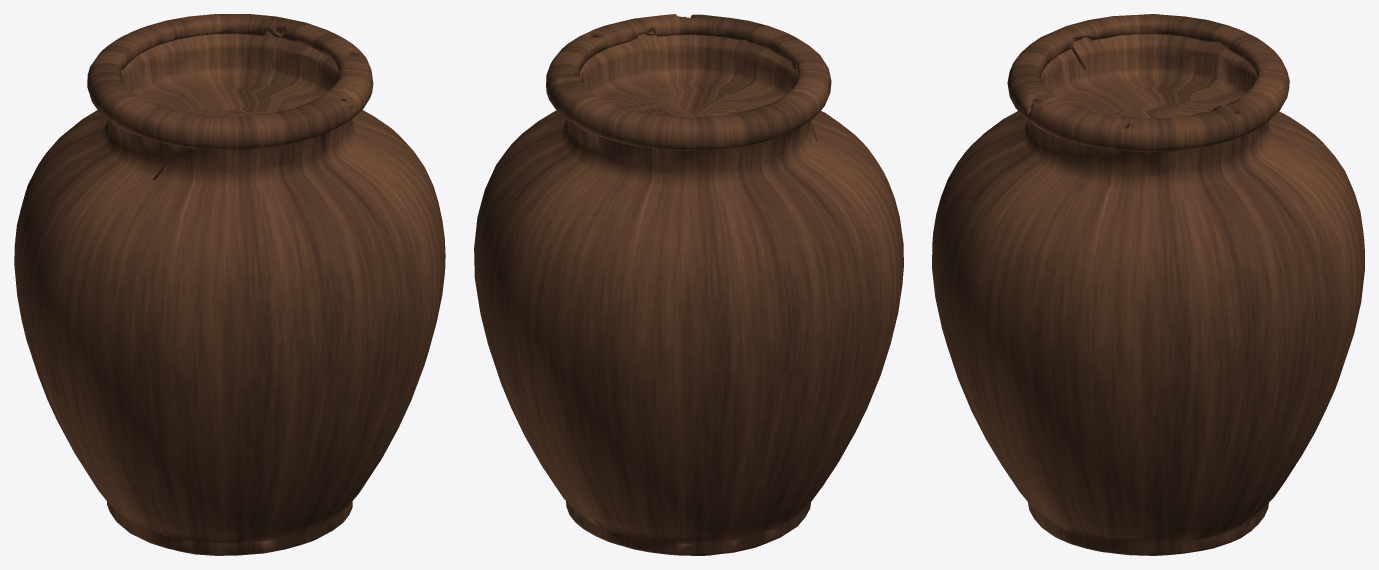
Rendered from water_jar_vn.glb.
The picture shows the model from 3 angles, left to right: view 1: azimuth 30°, elevation 25°; view 2: azimuth 150°, elevation 25°; view 3: azimuth 270°, elevation 25°; orthographic projection.
Parts seen in each view (by area): view 1: water_jar_vn; view 2: water_jar_vn; view 3: water_jar_vn.
Boxes of the visible parts, x1,y1,x2,y2 form: water_jar_vn: [14, 14, 445, 555]; water_jar_vn: [474, 14, 903, 555]; water_jar_vn: [932, 14, 1364, 555].
Bounding box in the file's own units: 0.8059 × 0.9 × 0.8063.
2 materials, 1 textured.
